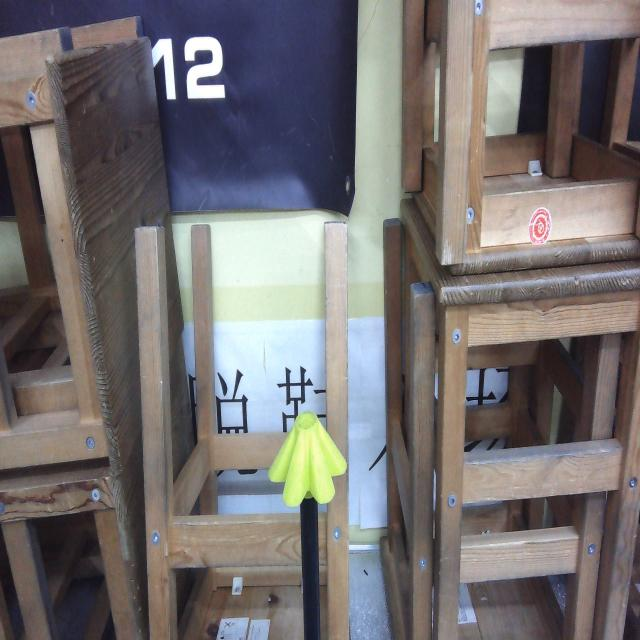Yellow-Stake-Head: (268, 412, 347, 507)
